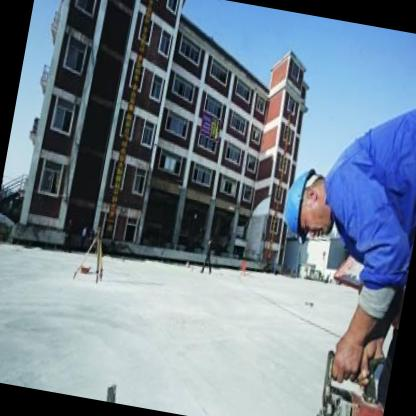helmet: (278, 162, 345, 243)
